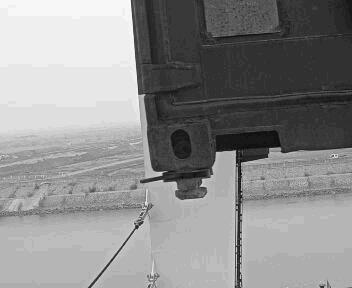twist_lock_1: (119, 167, 185, 207)
